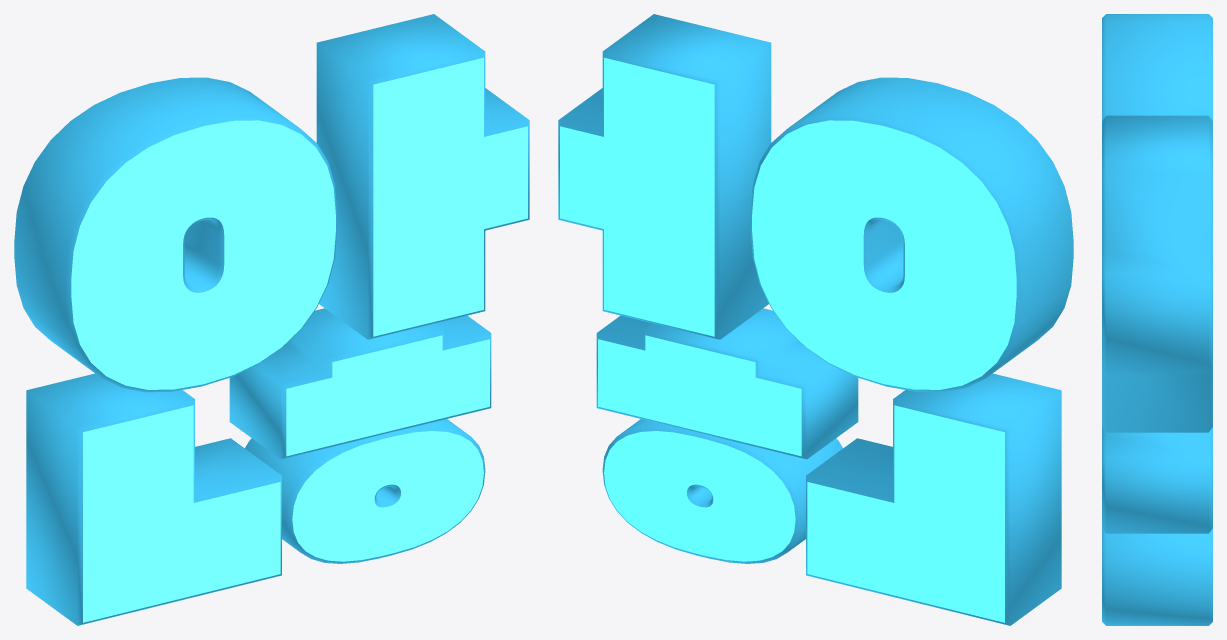
The picture shows the model from 3 angles, left to right: view 1: azimuth 30°, elevation 25°; view 2: azimuth 150°, elevation 25°; view 3: azimuth 270°, elevation 25°; orthographic projection.
Parts seen in each view (by area): view 1: glyph; view 2: glyph; view 3: glyph.
Part boxes in pixels (<box>): glyph: <box>14,14,529,625</box>; glyph: <box>558,14,1073,625</box>; glyph: <box>1102,14,1212,625</box>.
Size of the model in its own units: 0.0783 by 0.0776 by 0.0162.
